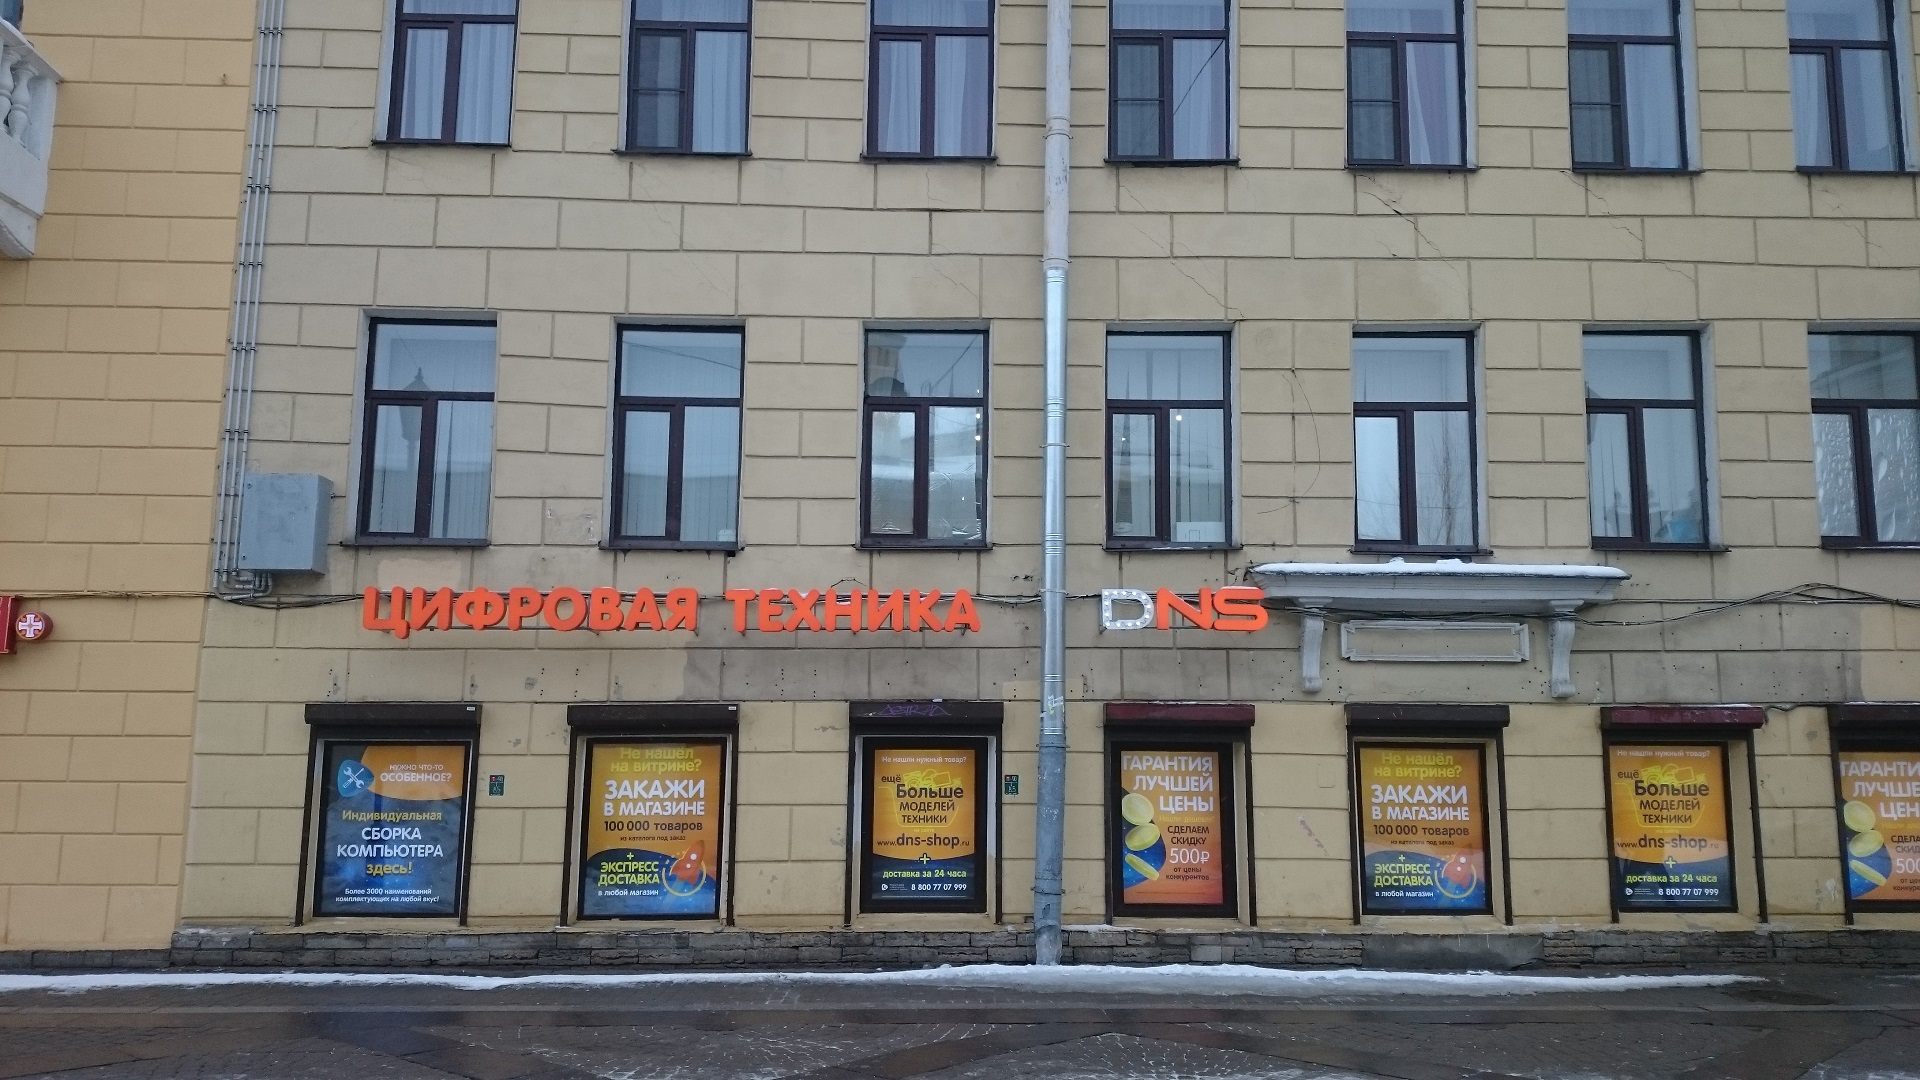signboard: (363, 578, 988, 644), (1096, 593, 1284, 640)
window: (309, 705, 488, 923), (844, 699, 1005, 938), (560, 699, 725, 920), (1606, 709, 1760, 934), (1349, 330, 1487, 563), (1357, 713, 1506, 922), (1110, 707, 1251, 924), (1104, 324, 1238, 553), (855, 318, 985, 549), (359, 313, 488, 539), (615, 319, 738, 549), (1331, 1, 1487, 175), (365, 1, 527, 165), (1101, 1, 1247, 179), (856, 1, 992, 175), (1797, 1, 1920, 190), (1571, 1, 1697, 175), (613, 1, 746, 160)
